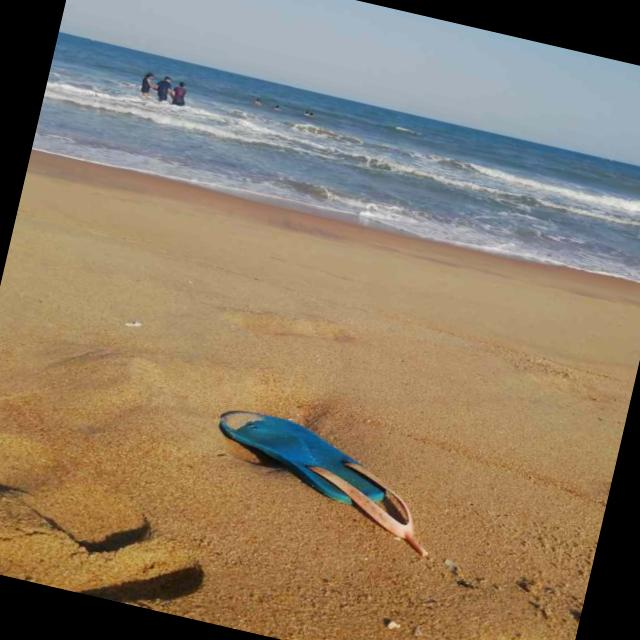dep: (218, 411, 425, 556)
